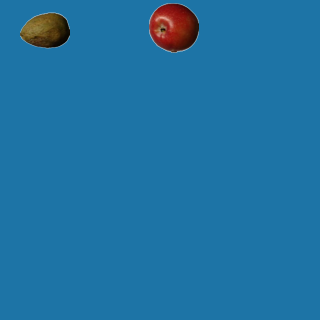Apple Braeburn: (148, 2, 198, 52)
Papaya: (19, 5, 69, 55)
